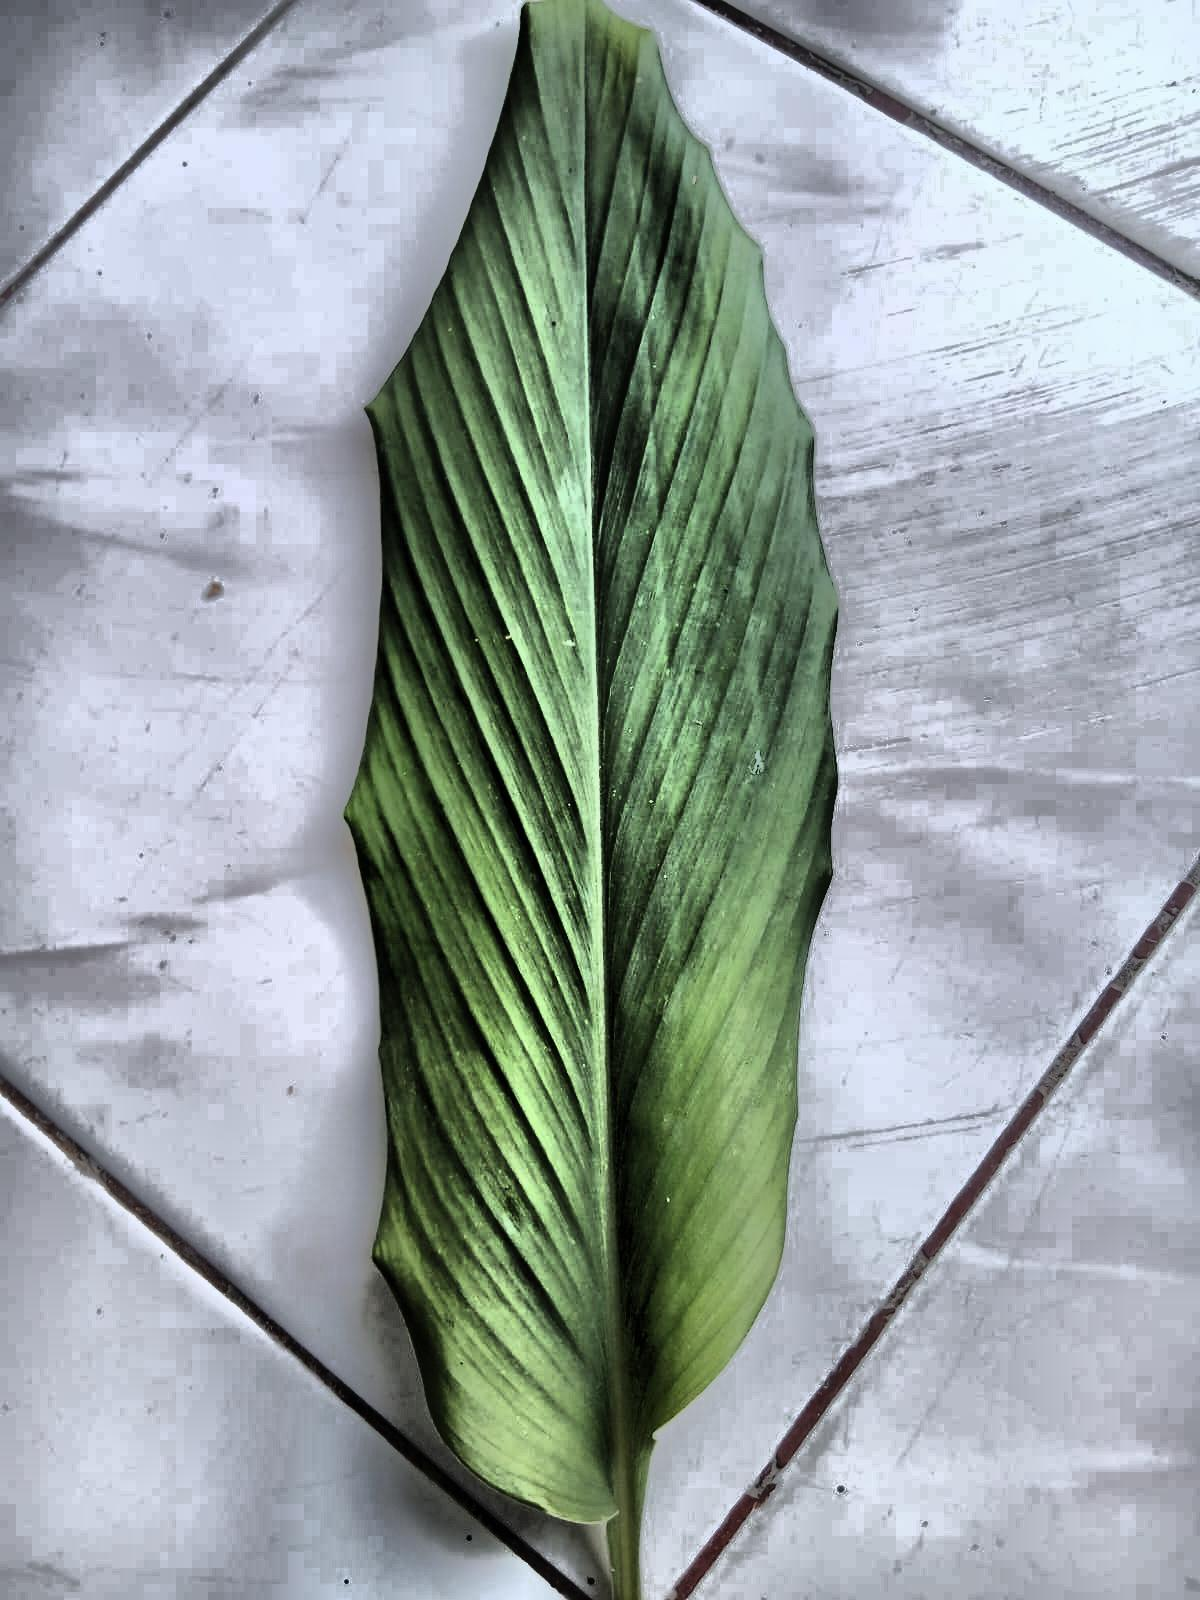daun kunyit: (345, 0, 837, 1599)
